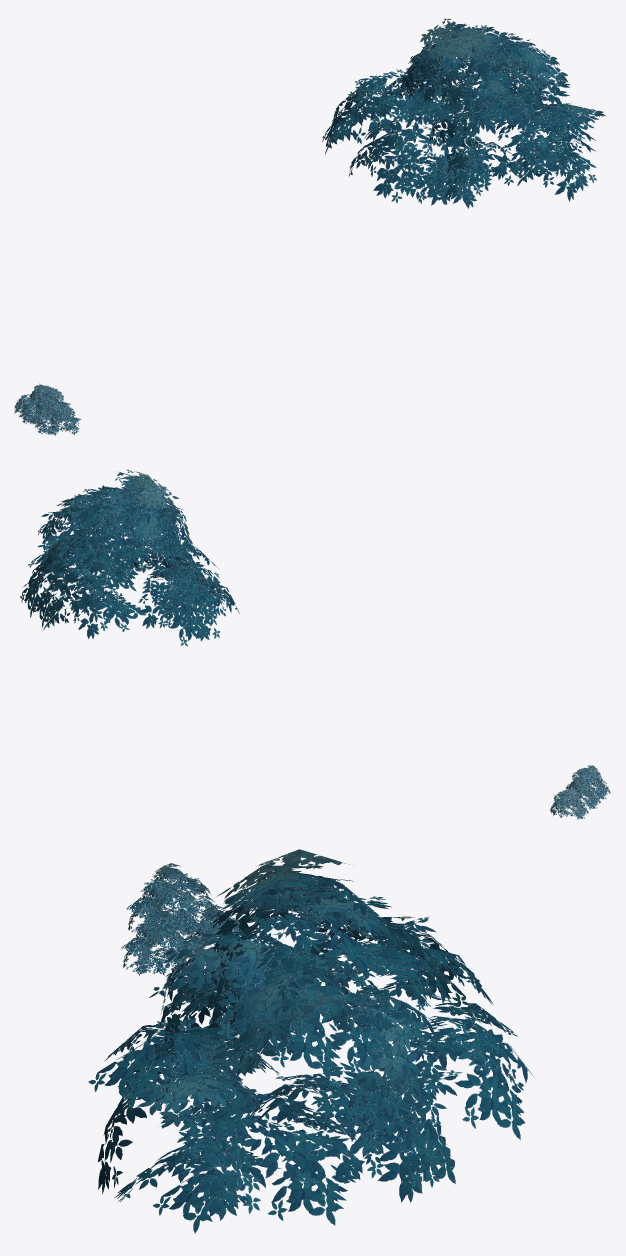
Rendered from Area12_15.FBX.
3 views of the same model, one above another, from view 1: azimuth 30°, elevation 25°; view 2: azimuth 150°, elevation 25°; view 3: azimuth 270°, elevation 25° (orthographic). The views are drawn at different scales.
Visible parts, largest first — view 1: Area12_15; view 2: Area12_15; view 3: Area12_15.
Boxes of the visible parts, left/top/right/bottom form: Area12_15: left=14, top=18, right=605, bottom=435; Area12_15: left=20, top=469, right=610, bottom=819; Area12_15: left=88, top=849, right=533, bottom=1233.
Size of the model in its own units: 4478 by 1962 by 1646.
